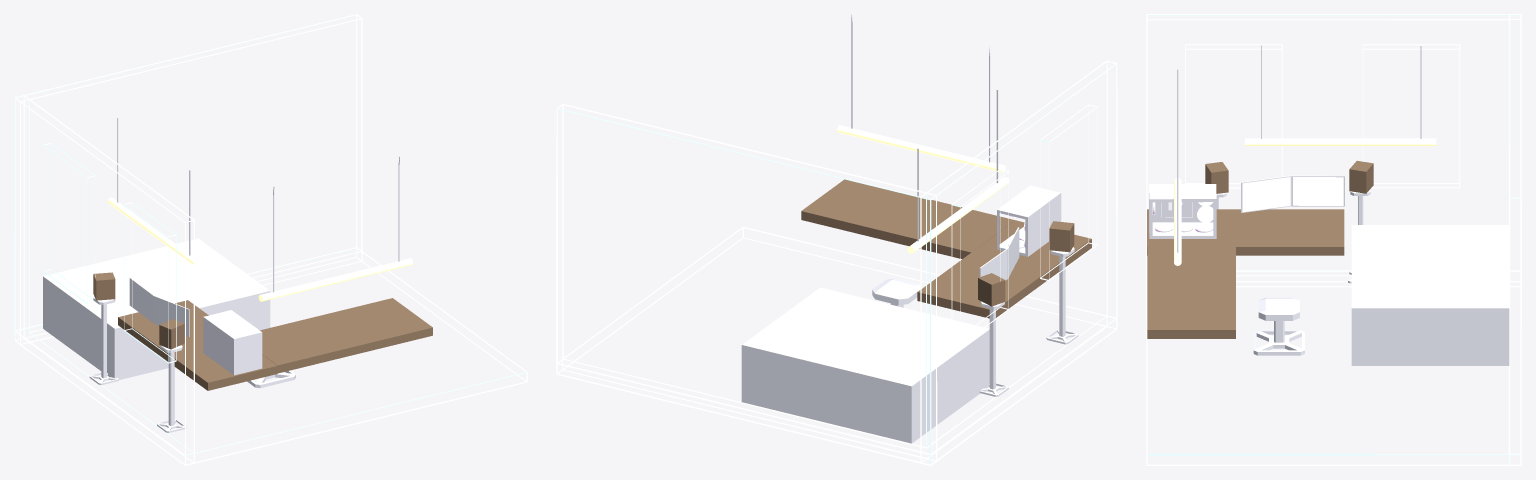
File: myroom.glb
3 views of the same model, side by side, from view 1: azimuth 30°, elevation 25°; view 2: azimuth 150°, elevation 25°; view 3: azimuth 270°, elevation 25° (orthographic). The views are drawn at different scales.
Parts seen in each view (by area): view 1: Plane.001, Room, Plane.002, Plane, Cube, Neon, Cylinder.001, Cube.020, Cube.019, Plane.004, Cube.021, Cube.018 (+3 smaller); view 2: Plane.001, Room, Plane.002, Plane, Cube, Neon, Cube.021, Cube.017, Cylinder.001, Cube.019, Cube.020, Cube.018 (+2 smaller); view 3: Plane.001, Plane.002, Room, Plane, Cube, Cube.017, Plane.003, Plane.004, Cylinder.001, Cube.021, Cube.020, Plane.005 (+2 smaller).
Part boxes in pixels (box(x1,y1,x2,y2)): Plane.001: box(43, 238, 270, 379); Room: box(14, 14, 527, 465); Plane.002: box(260, 298, 432, 373); Plane: box(118, 300, 277, 390); Cube: box(203, 310, 262, 375); Neon: box(258, 258, 412, 301); Cylinder.001: box(107, 197, 200, 267); Cube.020: box(124, 202, 176, 363); Cube.019: box(157, 345, 186, 432); Plane.004: box(153, 295, 189, 336); Cube.021: box(43, 143, 95, 304); Cube.018: box(89, 296, 118, 385); Plane.001: box(741, 287, 989, 443); Room: box(556, 60, 1117, 465); Plane.002: box(801, 179, 1014, 258); Plane: box(917, 220, 1091, 318); Cube: box(997, 185, 1061, 256); Neon: box(837, 125, 1005, 172); Cube.021: box(951, 169, 1008, 345); Cube.017: box(872, 278, 920, 307); Cylinder.001: box(907, 177, 1009, 253); Cube.019: box(1046, 247, 1078, 344); Cube.020: box(1040, 104, 1097, 280); Cube.018: box(979, 301, 1008, 396); Plane.001: box(1351, 225, 1509, 365); Plane.002: box(1147, 246, 1235, 338); Room: box(1146, 14, 1521, 465); Plane: box(1147, 209, 1344, 255); Cube: box(1149, 184, 1216, 238); Cube.017: box(1253, 297, 1304, 355); Plane.003: box(1291, 175, 1344, 206); Plane.004: box(1241, 175, 1291, 212); Cylinder.001: box(1245, 138, 1436, 145); Cube.021: box(1362, 44, 1460, 188); Cube.020: box(1185, 44, 1282, 188); Plane.005: box(1349, 160, 1373, 193).
Size of the model in its own units: 20.94 by 14.25 by 18.07.
